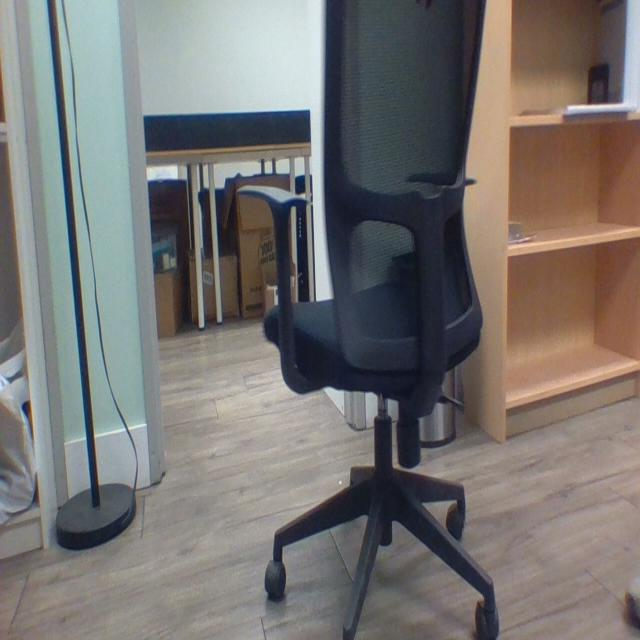black-chair: (236, 0, 507, 639)
